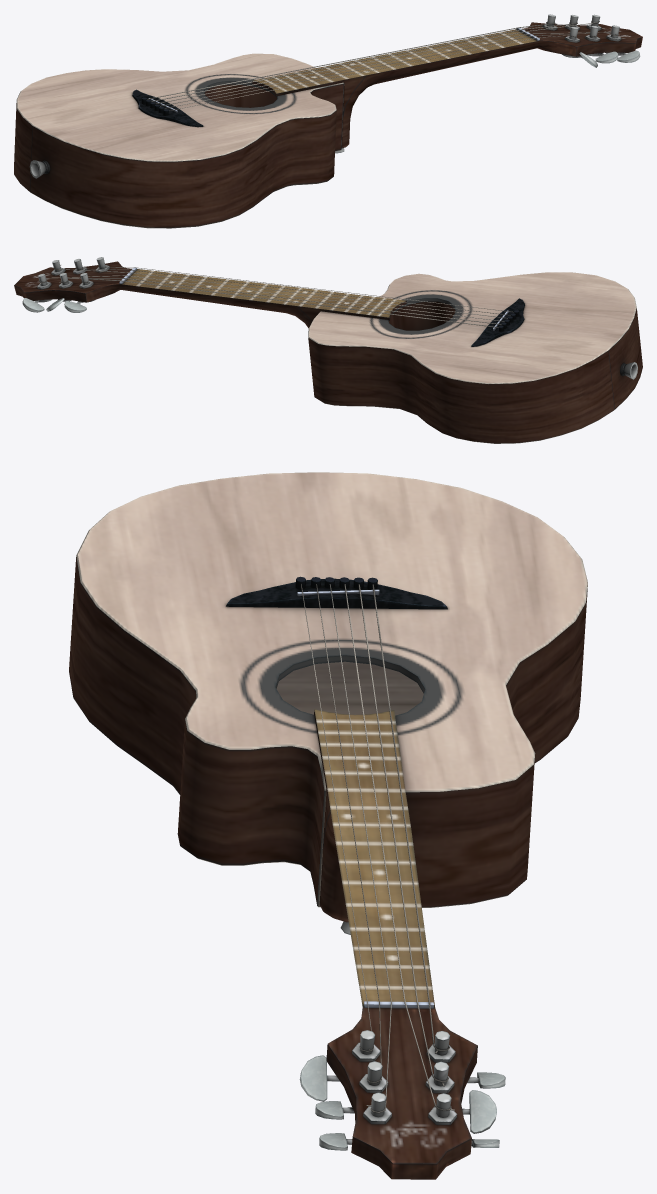
Rendered from low-poly-guitar-757b3b.glb.
The picture shows the model from 3 angles, top to bottom: view 1: azimuth 30°, elevation 25°; view 2: azimuth 150°, elevation 25°; view 3: azimuth 270°, elevation 25°; orthographic projection. The views are drawn at different scales.
Visible parts, largest first — view 1: PropMesh; view 2: PropMesh; view 3: PropMesh.
Boxes of the visible parts, x1,y1,x2,y2 form: PropMesh: [14, 14, 642, 228]; PropMesh: [14, 257, 642, 443]; PropMesh: [69, 472, 587, 1179].
Bounding box in the file's own units: 1 × 0.1525 × 0.3803.
Materials: 1 (1 with a texture image).
